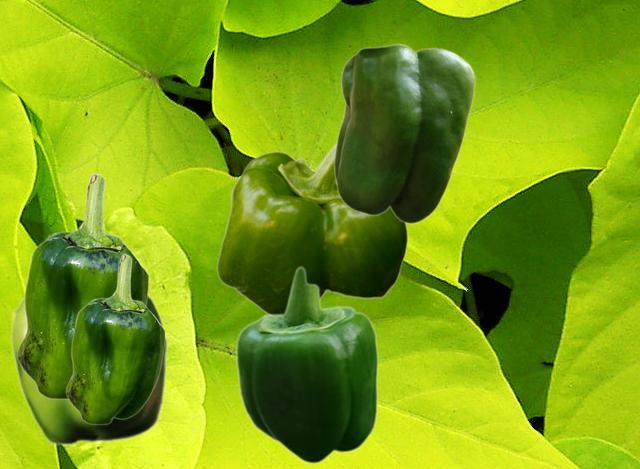bell_pepper: (216, 144, 407, 312), (16, 172, 148, 399), (234, 265, 378, 464), (333, 43, 475, 223), (10, 293, 167, 445), (65, 253, 164, 424)
